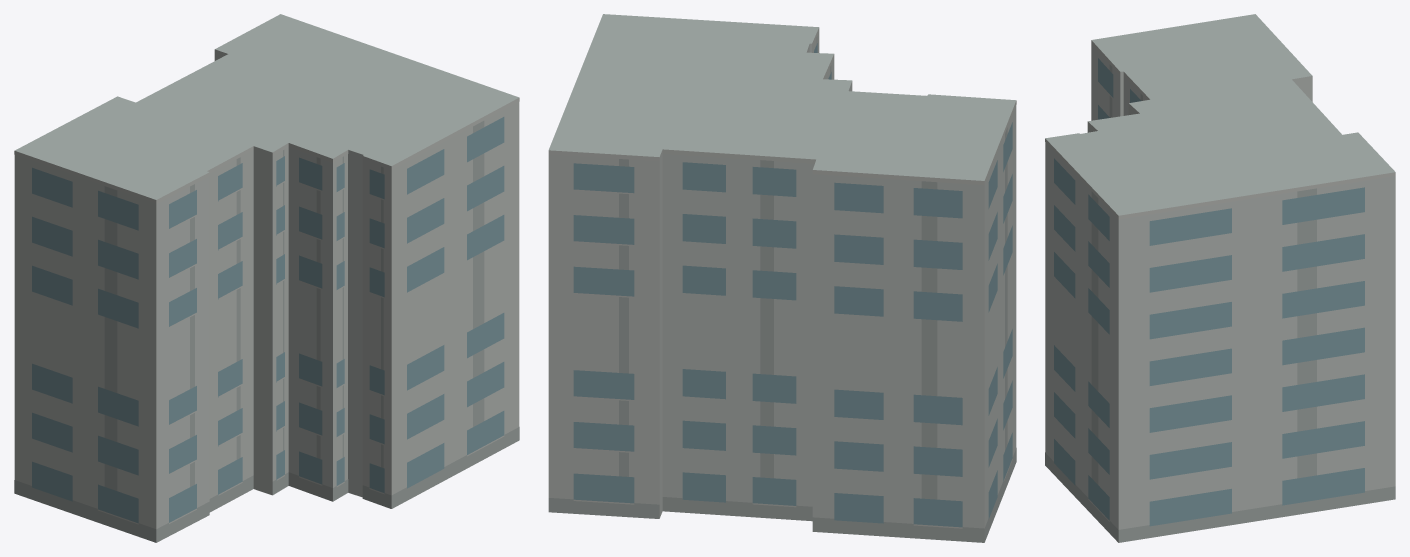
Rendered from survey-upis-33021670.glb.
3 views of the same model, side by side, from view 1: azimuth 30°, elevation 25°; view 2: azimuth 150°, elevation 25°; view 3: azimuth 270°, elevation 25° (orthographic). The views are drawn at different scales.
Parts seen in each view (by area): view 1: survey-upis-33021670.tmp; view 2: survey-upis-33021670.tmp; view 3: survey-upis-33021670.tmp.
Part boxes in pixels (<box>): survey-upis-33021670.tmp: <box>14,14,519,542</box>; survey-upis-33021670.tmp: <box>548,14,1016,542</box>; survey-upis-33021670.tmp: <box>1045,14,1395,542</box>.
Size of the model in its own units: 27.38 by 20.7 by 20.11.
